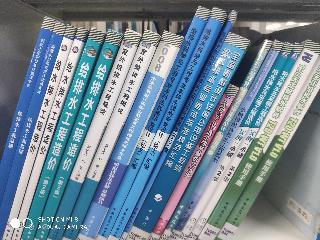book-spine: (93, 6, 210, 240), (106, 8, 223, 240), (120, 10, 236, 240), (125, 32, 248, 240), (195, 39, 320, 240), (167, 40, 283, 240), (74, 31, 182, 240), (178, 42, 292, 240), (188, 44, 302, 240), (160, 39, 271, 240), (60, 31, 158, 240), (213, 59, 320, 240), (49, 31, 140, 240), (32, 30, 121, 240), (20, 29, 103, 240), (1, 25, 75, 240), (11, 28, 86, 240), (0, 22, 65, 236), (149, 85, 237, 240), (0, 17, 54, 198)
